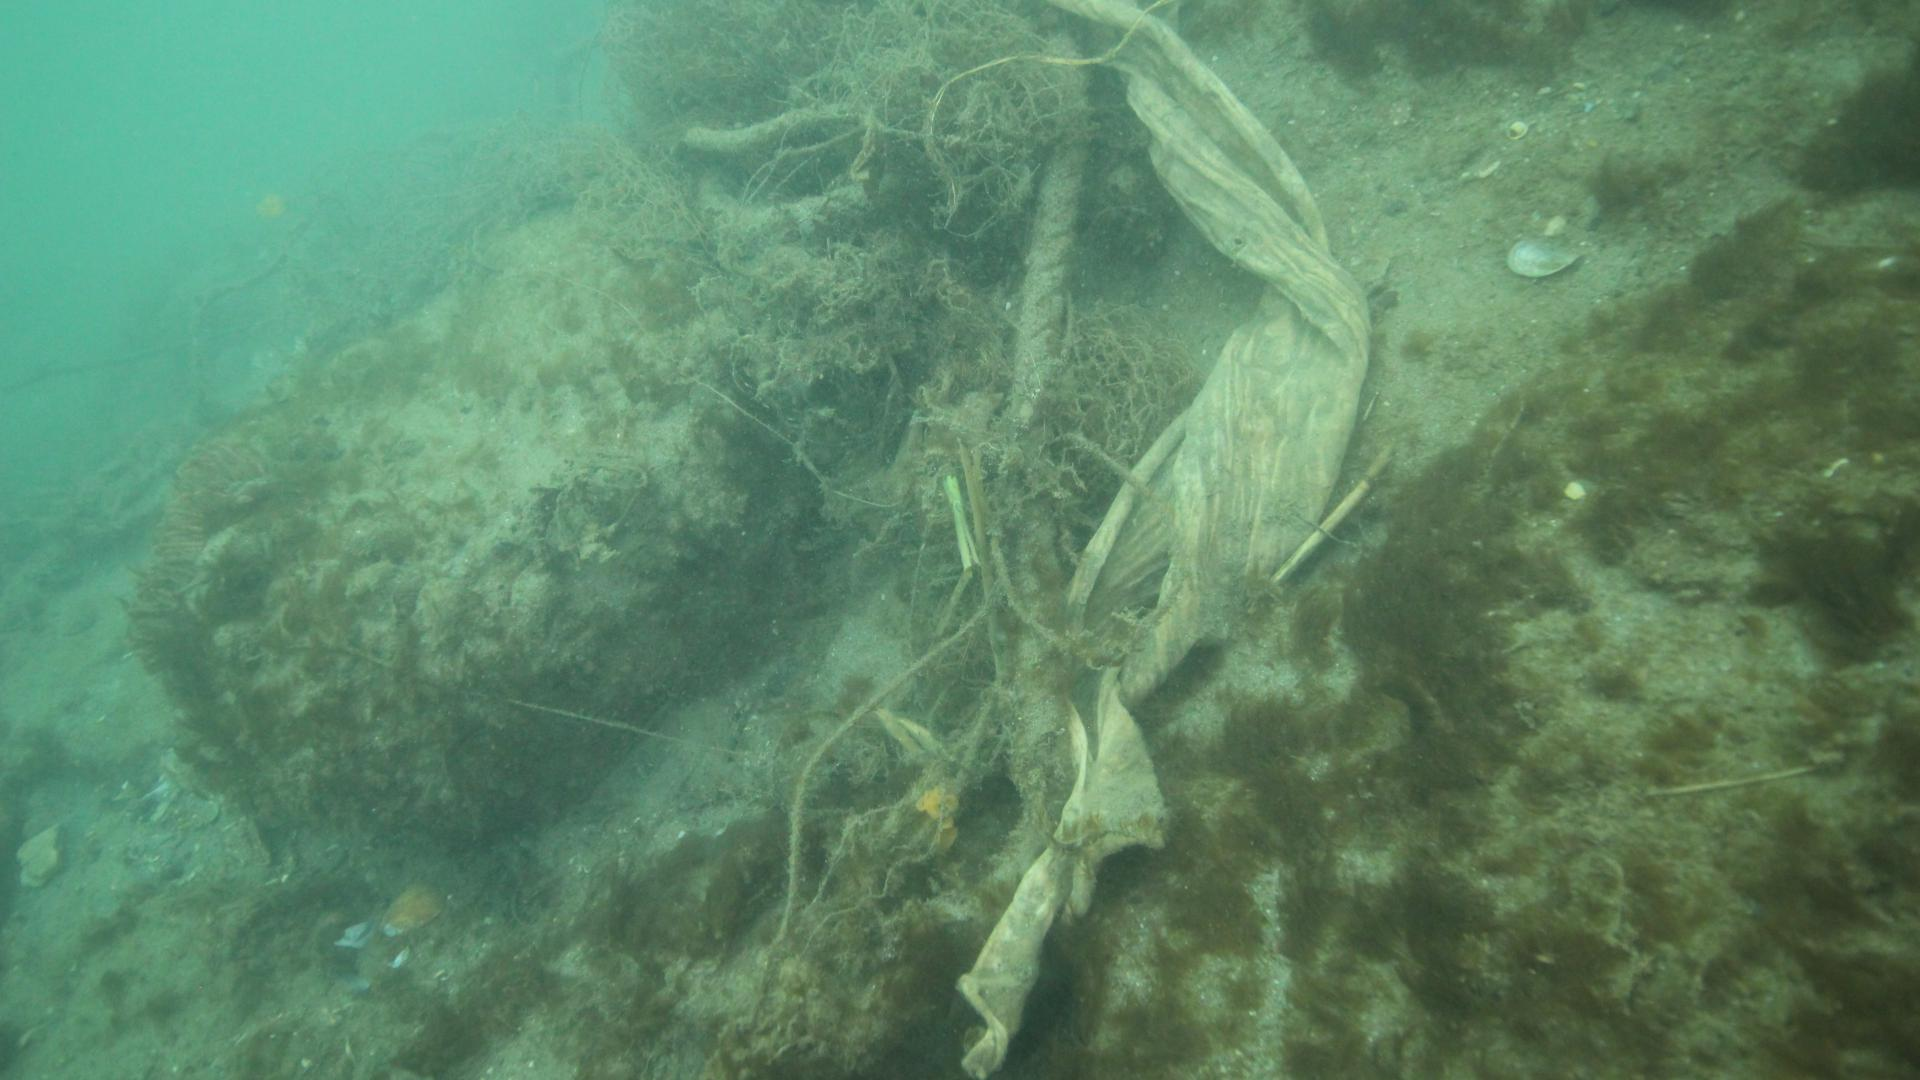rope: (1004, 32, 1093, 836)
